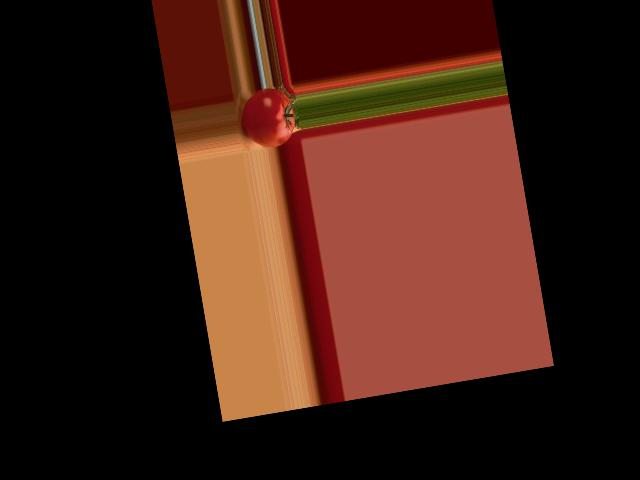tomato: (238, 85, 298, 151)
